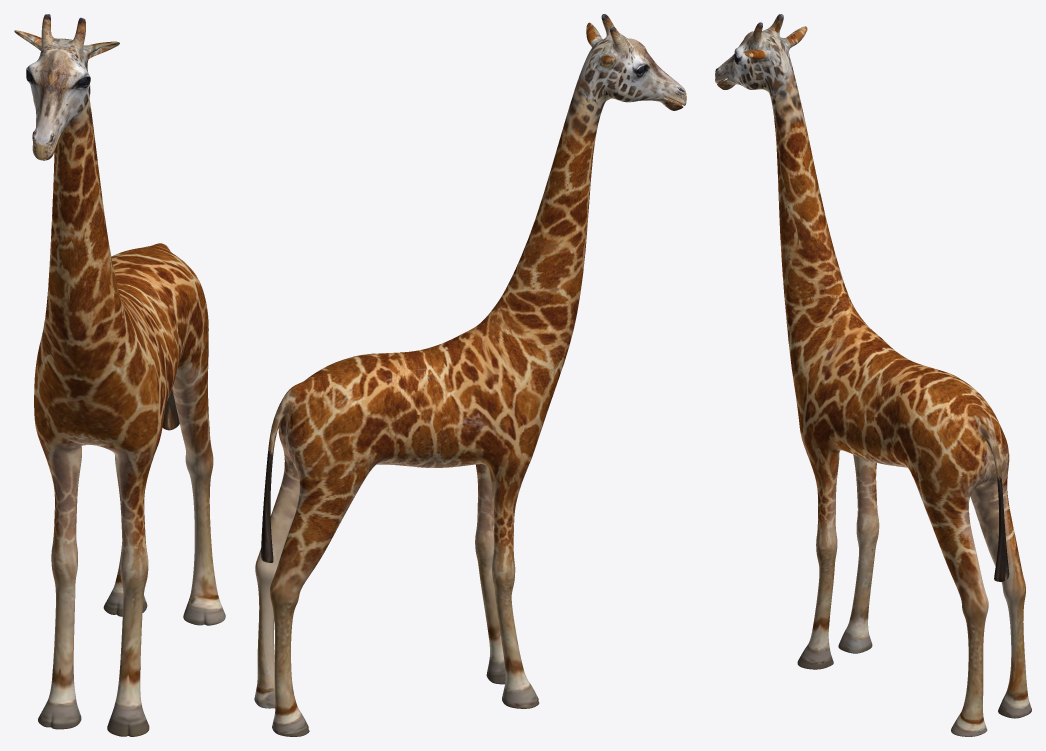
Rendered from Gazelle_OBJ.obj.
The picture shows the model from 3 angles, left to right: view 1: azimuth 30°, elevation 25°; view 2: azimuth 150°, elevation 25°; view 3: azimuth 270°, elevation 25°; orthographic projection. The views are drawn at different scales.
Visible parts, largest first — view 1: 10021_Giraffe_v04; view 2: 10021_Giraffe_v04; view 3: 10021_Giraffe_v04.
Part boxes in pixels (x1,y1,x2,y2): 10021_Giraffe_v04: (14, 14, 225, 736); 10021_Giraffe_v04: (254, 14, 686, 736); 10021_Giraffe_v04: (715, 14, 1031, 736).
Size of the model in its own units: 1.37 by 2.9 by 1.37.
Materials: 1 (1 with a texture image).
